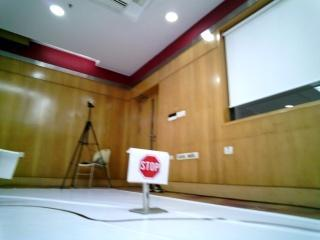stop: (131, 151, 166, 177)
